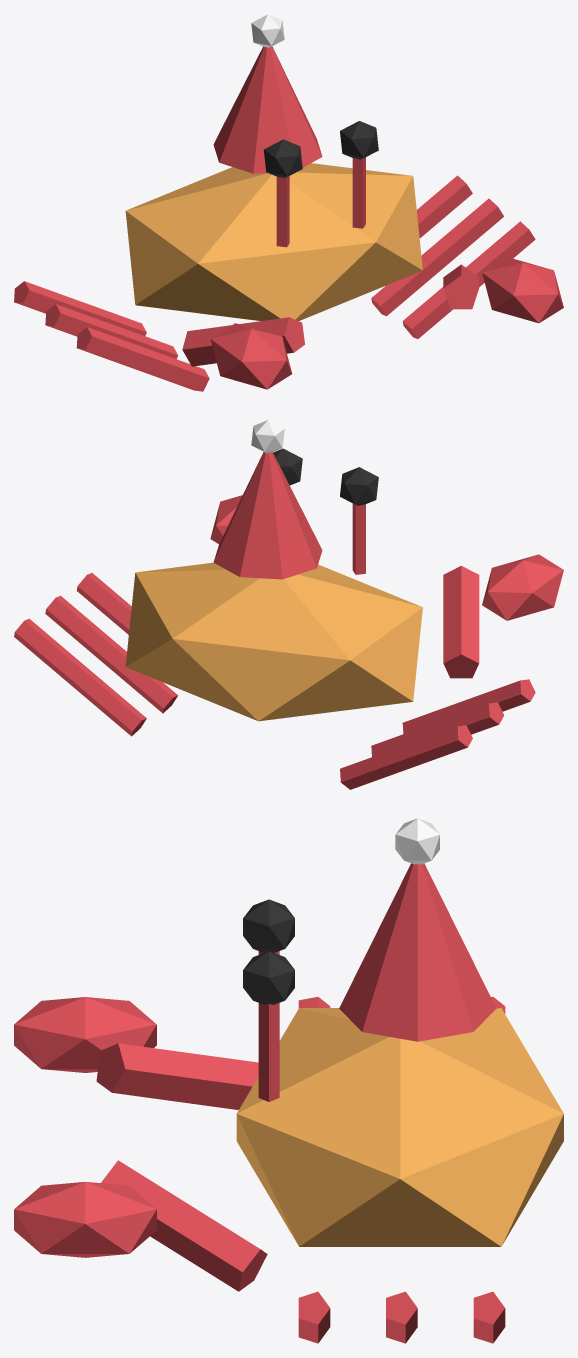
Rendered from Cangrejo.fbx.
3 views of the same model, one above another, from view 1: azimuth 30°, elevation 25°; view 2: azimuth 150°, elevation 25°; view 3: azimuth 270°, elevation 25° (orthographic). The views are drawn at different scales.
Visible parts, largest first — view 1: Caparazon, Gorro, PinzaI, PinzaD, PataD1, PataI0, PataD0, BrazoPinzaI, PataI2, PataI1, PataD2, BrazoPinzaD (+5 smaller); view 2: Caparazon, Gorro, BrazoPinzaI, PinzaI, PataD2, PataD1, PataI2, PataI0, PataI1, PataD0, OjoI, AntenaI (+3 smaller); view 3: Caparazon, Gorro, PinzaD, PinzaI, BrazoPinzaI, BrazoPinzaD, OjoD, OjoI, AntenaD, Borla, PataD0, PataD2 (+1 smaller).
Boxes of the visible parts, x1,y1,x2,y2 form: Caparazon: [125, 163, 422, 320]; Gorro: [213, 46, 322, 173]; PinzaI: [210, 323, 292, 389]; PinzaD: [482, 257, 563, 323]; PataD1: [371, 198, 503, 316]; PataI0: [76, 327, 209, 391]; PataD0: [402, 221, 535, 338]; BrazoPinzaI: [182, 317, 304, 366]; PataI2: [14, 281, 146, 335]; PataI1: [45, 304, 178, 358]; PataD2: [416, 175, 472, 238]; BrazoPinzaD: [443, 264, 479, 309]; Caparazon: [125, 562, 422, 721]; Gorro: [213, 452, 322, 579]; BrazoPinzaI: [443, 565, 479, 678]; PinzaI: [482, 554, 563, 620]; PataD2: [14, 618, 146, 736]; PataD1: [45, 595, 177, 713]; PataI2: [340, 725, 472, 789]; PataI0: [402, 679, 535, 733]; PataI1: [371, 702, 504, 756]; PataD0: [76, 573, 131, 634]; OjoI: [340, 467, 378, 505]; AntenaI: [352, 503, 365, 574]; Caparazon: [236, 1008, 563, 1246]; Gorro: [339, 863, 496, 1041]; PinzaD: [14, 1181, 156, 1257]; PinzaI: [14, 997, 156, 1072]; BrazoPinzaI: [96, 1043, 258, 1109]; BrazoPinzaD: [101, 1160, 267, 1291]; OjoD: [243, 951, 294, 1004]; OjoI: [243, 899, 294, 952]; AntenaD: [258, 1003, 279, 1101]; Borla: [395, 818, 439, 864]; PataD0: [298, 1291, 330, 1343]; PataD2: [473, 1291, 505, 1343].
Size of the model in its own units: 0.8355 by 0.569 by 0.6288.
